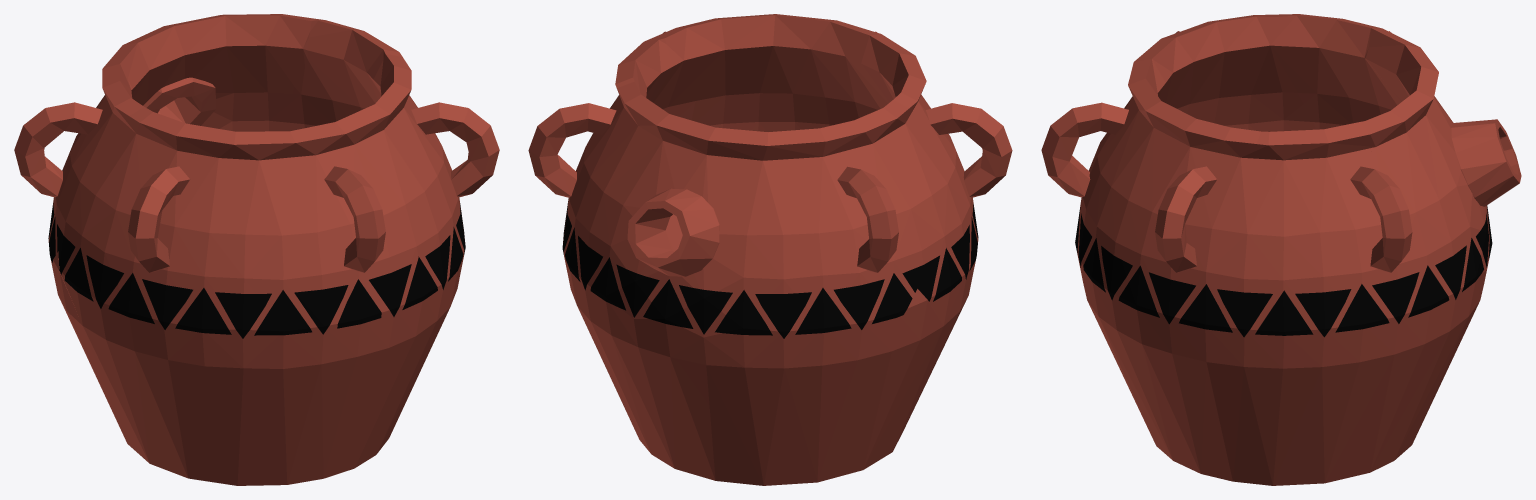
The model's file is Pottery 17_3b.fbx.
3 views of the same model, side by side, from view 1: azimuth 30°, elevation 25°; view 2: azimuth 150°, elevation 25°; view 3: azimuth 270°, elevation 25° (orthographic).
Visible parts, largest first — view 1: Pottery 17_3.003, Pottery 17_3.007, Pottery 17_3b, Pottery 17_3.001, Pottery 17_3.002, Pottery 17_3.005, Pottery 17_3.004, Pottery 17_3.006; view 2: Pottery 17_3.001, Pottery 17_3.004, Pottery 17_3.002, Pottery 17_3.007, Pottery 17_3.003, Pottery 17_3.005, Pottery 17_3b; view 3: Pottery 17_3.005, Pottery 17_3.007, Pottery 17_3.006, Pottery 17_3.001, Pottery 17_3.003, Pottery 17_3b, Pottery 17_3.002, Pottery 17_3.004.
Boxes of the visible parts, box(x1,y1,x2,y2) form: Pottery 17_3.003: box(58, 107, 295, 404); Pottery 17_3.007: box(275, 54, 499, 397); Pottery 17_3b: box(109, 321, 398, 485); Pottery 17_3.001: box(103, 14, 316, 131); Pottery 17_3.002: box(14, 64, 143, 269); Pottery 17_3.005: box(260, 19, 402, 131); Pottery 17_3.004: box(53, 251, 156, 407); Pottery 17_3.006: box(378, 198, 465, 417); Pottery 17_3.001: box(589, 81, 825, 361); Pottery 17_3.004: box(593, 289, 945, 460); Pottery 17_3.002: box(756, 100, 926, 369); Pottery 17_3.007: box(652, 14, 889, 131); Pottery 17_3.003: box(861, 34, 1012, 349); Pottery 17_3.005: box(528, 38, 673, 340); Pottery 17_3b: box(622, 354, 940, 485); Pottery 17_3.005: box(1206, 121, 1477, 424); Pottery 17_3.007: box(1041, 59, 1261, 364); Pottery 17_3.006: box(1117, 272, 1297, 459); Pottery 17_3.001: box(1365, 28, 1521, 290); Pottery 17_3.003: box(1134, 14, 1315, 131); Pottery 17_3b: box(1115, 359, 1421, 485); Pottery 17_3.002: box(1270, 14, 1401, 129); Pottery 17_3.004: box(1324, 289, 1482, 436).
Bounding box in the file's own units: 88.77 × 83.24 × 102.
